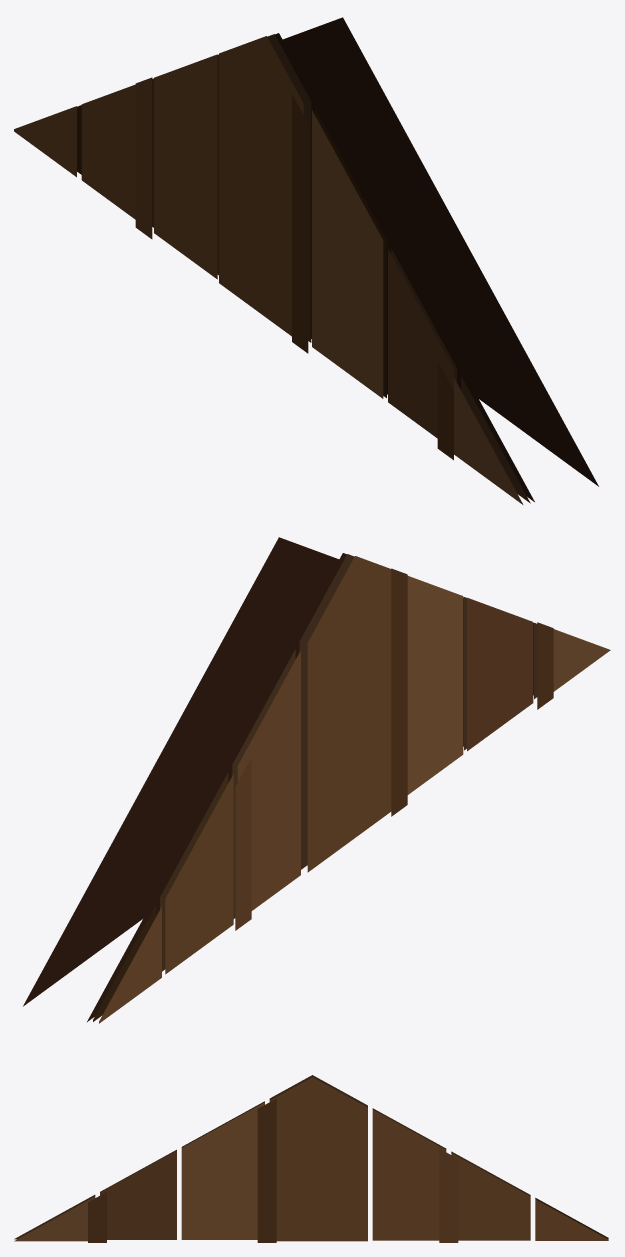
File: wall-timber-gable-peak.glb
The picture shows the model from 3 angles, top to bottom: view 1: azimuth 30°, elevation 25°; view 2: azimuth 150°, elevation 25°; view 3: azimuth 270°, elevation 25°; orthographic projection. The views are drawn at different scales.
Parts seen in each view (by area): view 1: wall-timber-gable-peak; view 2: wall-timber-gable-peak; view 3: wall-timber-gable-peak.
Boxes of the visible parts, box(x1,y1,x2,y2) form: wall-timber-gable-peak: box(14, 17, 598, 504); wall-timber-gable-peak: box(23, 537, 610, 1023); wall-timber-gable-peak: box(14, 1075, 608, 1242).
Size of the model in its own units: 0.112 by 0.3035 by 1.
